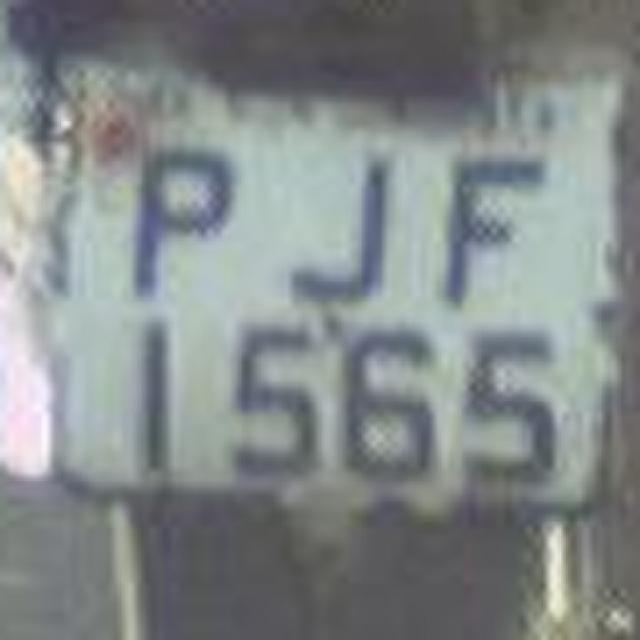1: (88, 300, 200, 495)
5: (424, 312, 591, 500), (200, 304, 345, 488)
6: (308, 300, 468, 505)
F: (416, 140, 536, 320)
J: (276, 144, 409, 311)
P: (111, 128, 244, 320)
